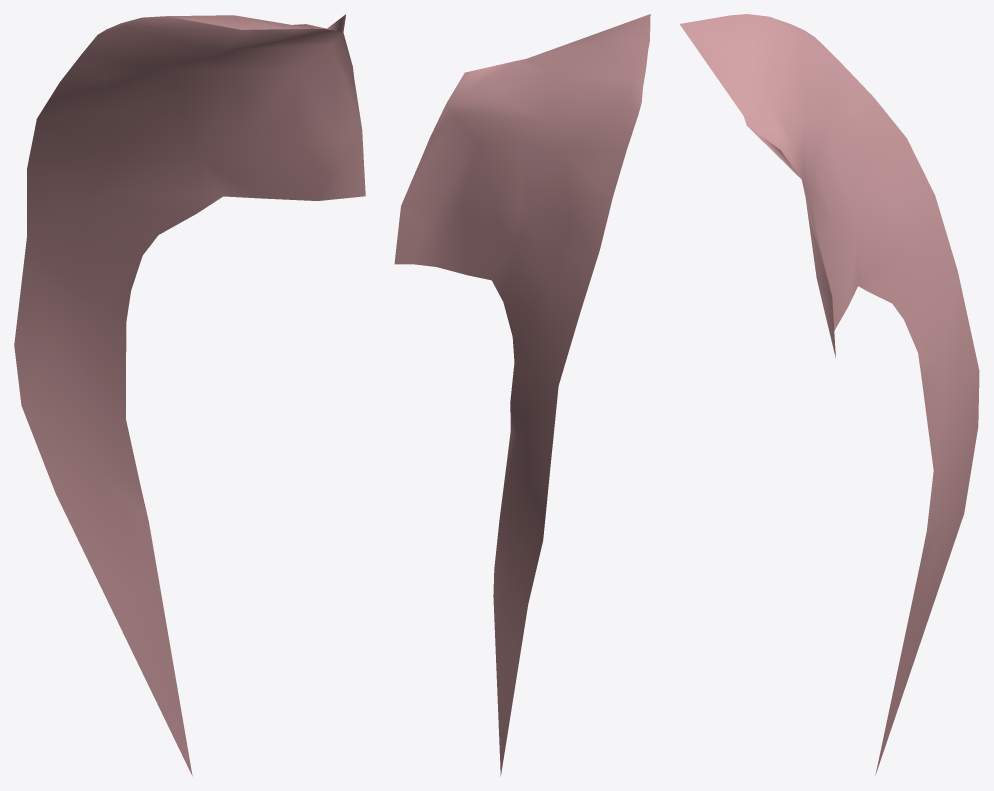
The picture shows the model from 3 angles, left to right: view 1: azimuth 30°, elevation 25°; view 2: azimuth 150°, elevation 25°; view 3: azimuth 270°, elevation 25°; orthographic projection. The views are drawn at different scales.
Visible parts, largest first — view 1: ZA_04591fa2d2d1463c; view 2: ZA_04591fa2d2d1463c; view 3: ZA_04591fa2d2d1463c.
Boxes of the visible parts, x1,y1,x2,y2 form: ZA_04591fa2d2d1463c: (14, 14, 365, 776); ZA_04591fa2d2d1463c: (394, 14, 650, 776); ZA_04591fa2d2d1463c: (679, 14, 979, 775).
Bounding box in the file's own units: 0.0134 × 0.0377 × 0.0141.
